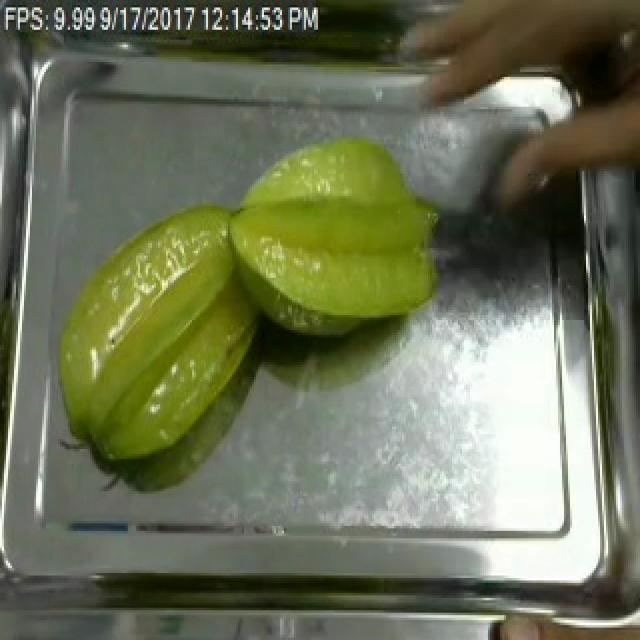fruit: (40, 188, 274, 476), (216, 116, 456, 338), (410, 0, 640, 92)
